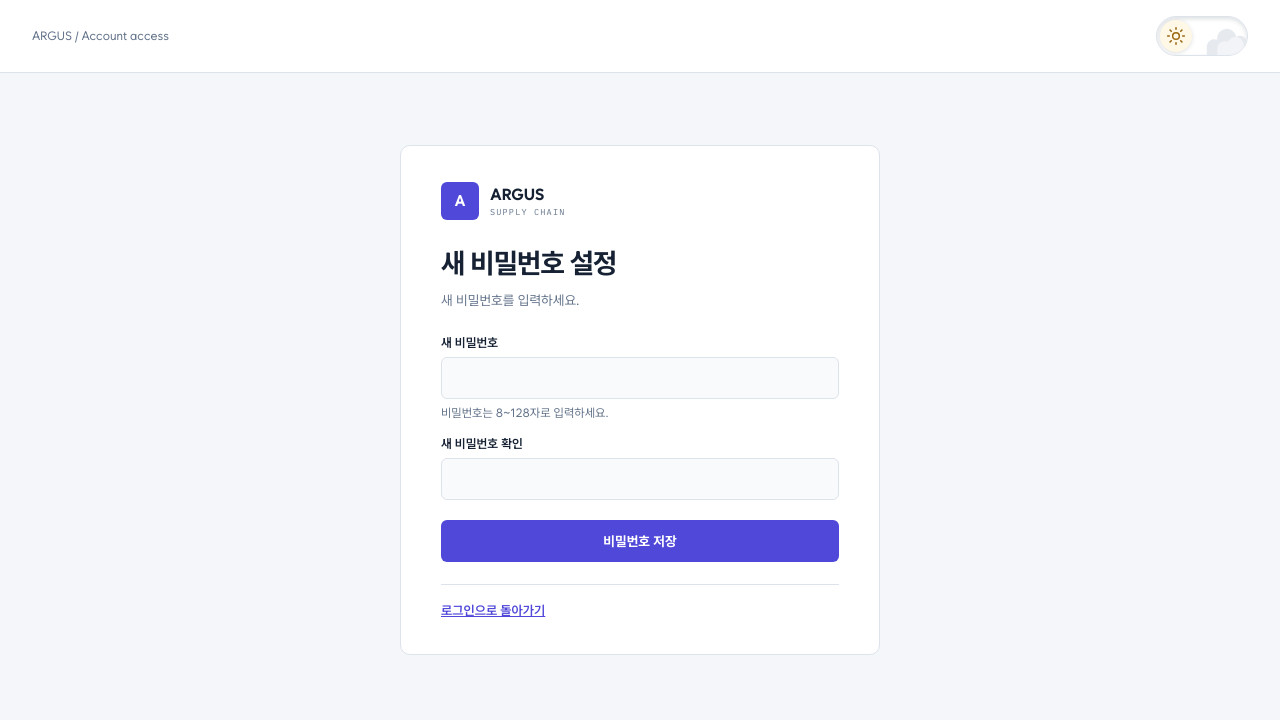
Test: ResetPasswordPage › resets the password with the token and points to login
In the password field labelled "새 비밀번호": [640, 378] box [441,357,839,399], type "brand-new-pass-456"
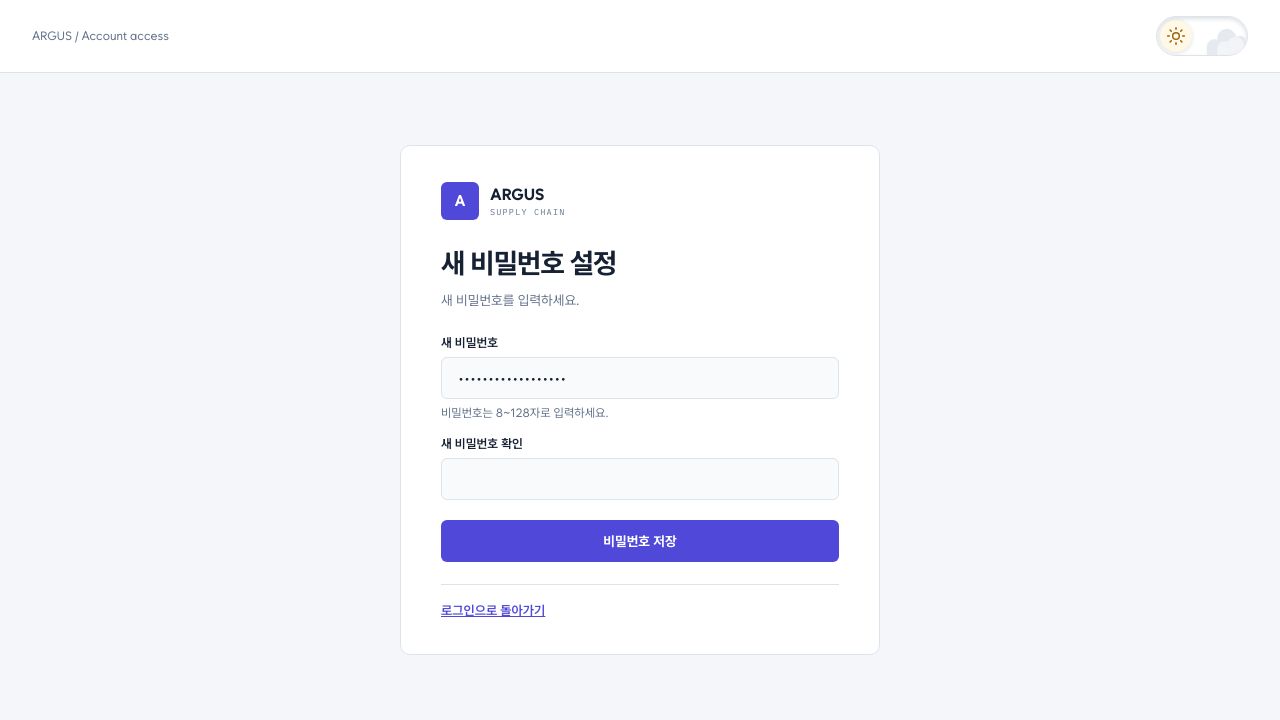
In the password field labelled "새 비밀번호 확인": [640, 479] box [441,458,839,500], type "brand-new-pass-456"
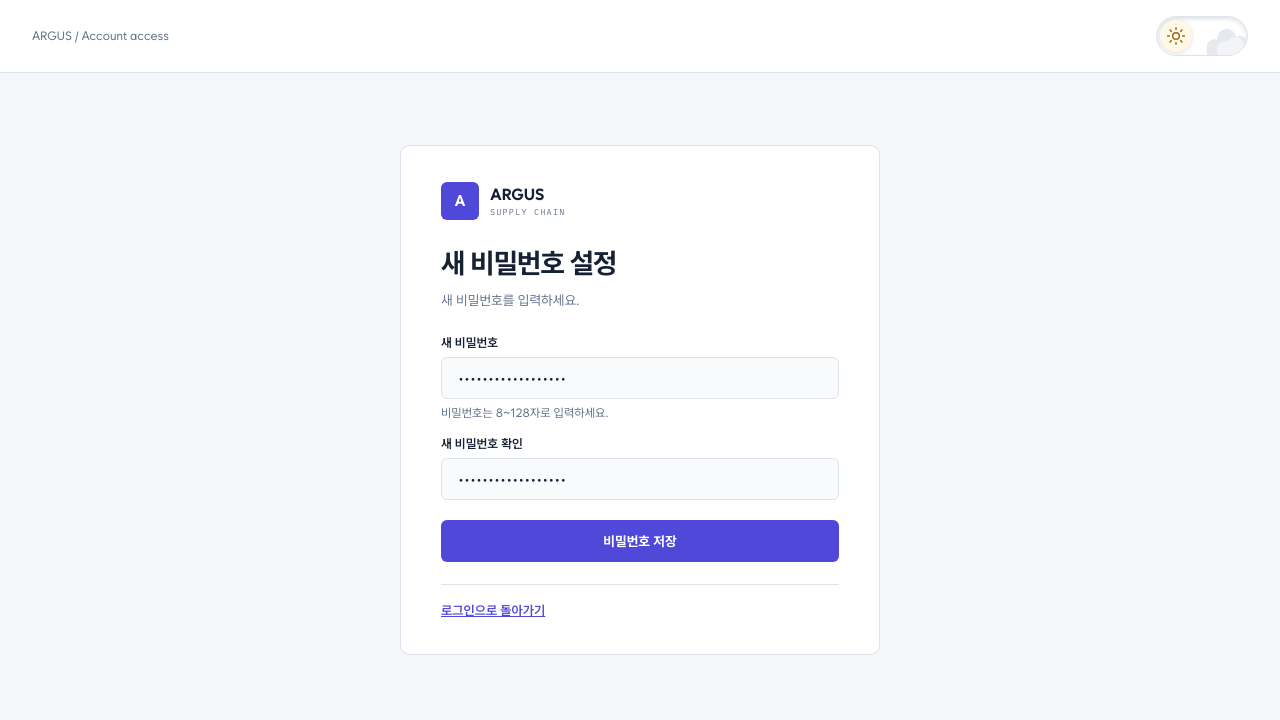
Click the button "비밀번호 저장": [640, 541] box [441,520,839,562]
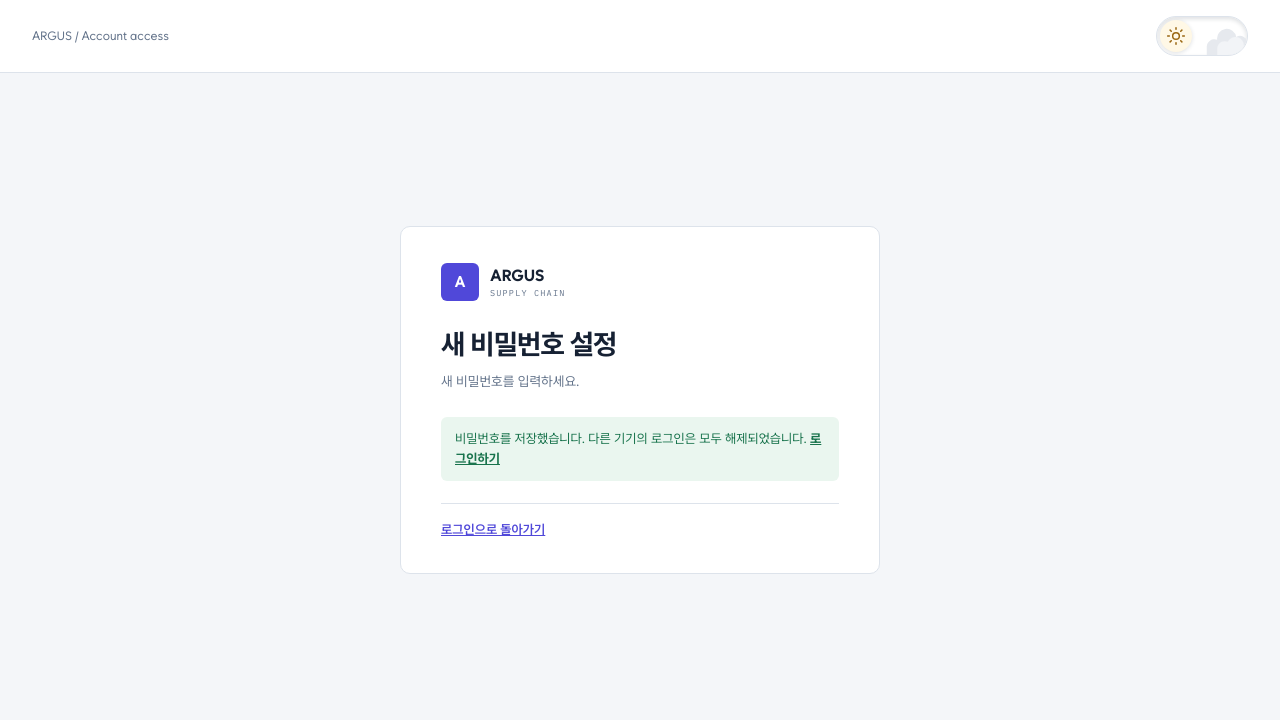
Check: the message shows "비밀번호를 저장했습니다. 다른 기기의 로그인은 모두 해제", box [455,431,807,446]
